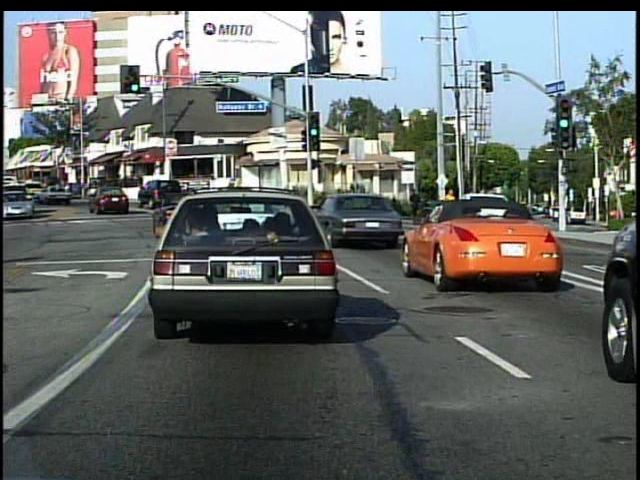person: (441, 187, 460, 226), (408, 187, 425, 227)
